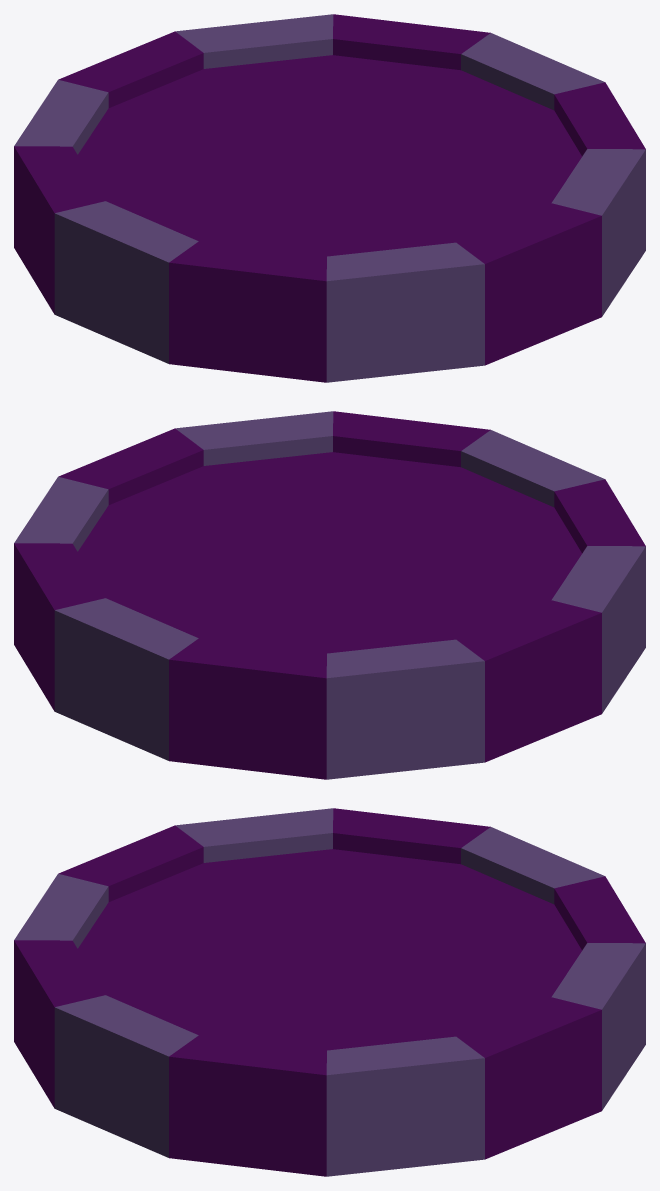
The picture shows the model from 3 angles, top to bottom: view 1: azimuth 30°, elevation 25°; view 2: azimuth 150°, elevation 25°; view 3: azimuth 270°, elevation 25°; orthographic projection.
Parts seen in each view (by area): view 1: Cylinder.005; view 2: Cylinder.005; view 3: Cylinder.005.
Boxes of the visible parts, box(x1,y1,x2,y2) form: Cylinder.005: box(14, 14, 645, 382); Cylinder.005: box(14, 411, 645, 779); Cylinder.005: box(14, 808, 645, 1176).
Size of the model in its own units: 150 by 26.64 by 150.
